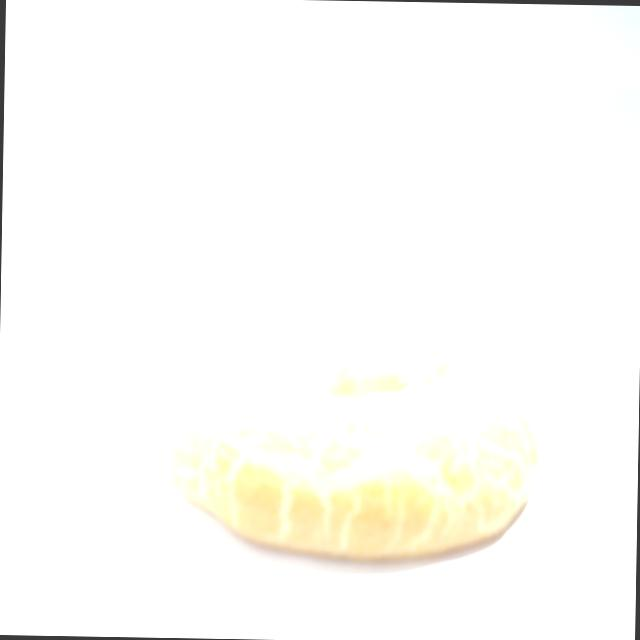Chipa: (157, 315, 548, 578)
